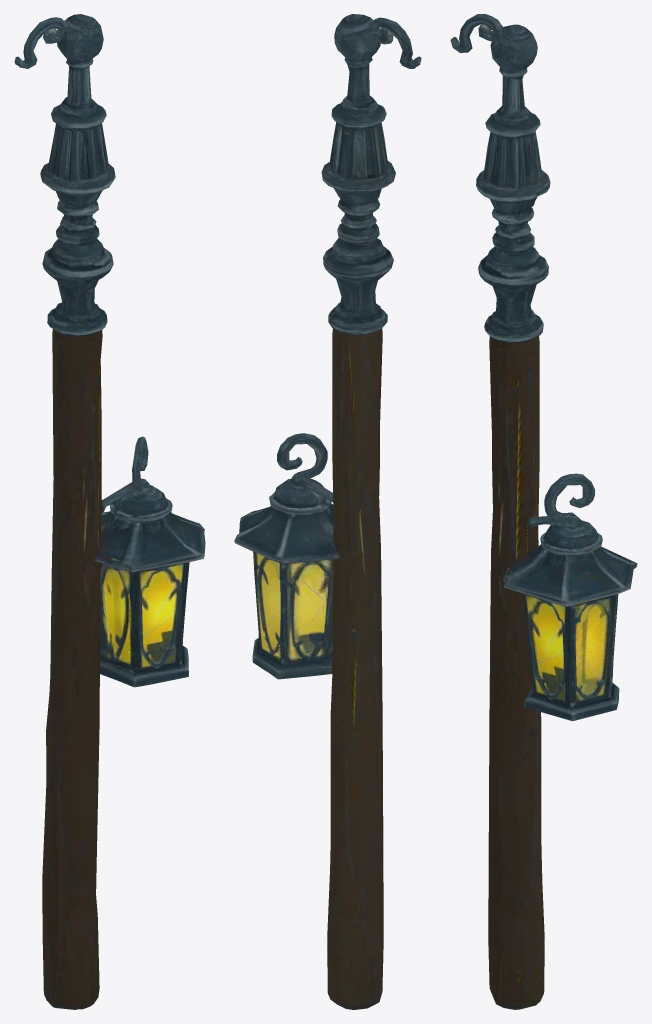
Rendered from lanterna.glb.
3 views of the same model, side by side, from view 1: azimuth 30°, elevation 25°; view 2: azimuth 150°, elevation 25°; view 3: azimuth 330°, elevation 25° (orthographic).
Bounding box in the file's own units: 0.3656 × 1.9 × 0.2386.
1 material, 1 textured.
